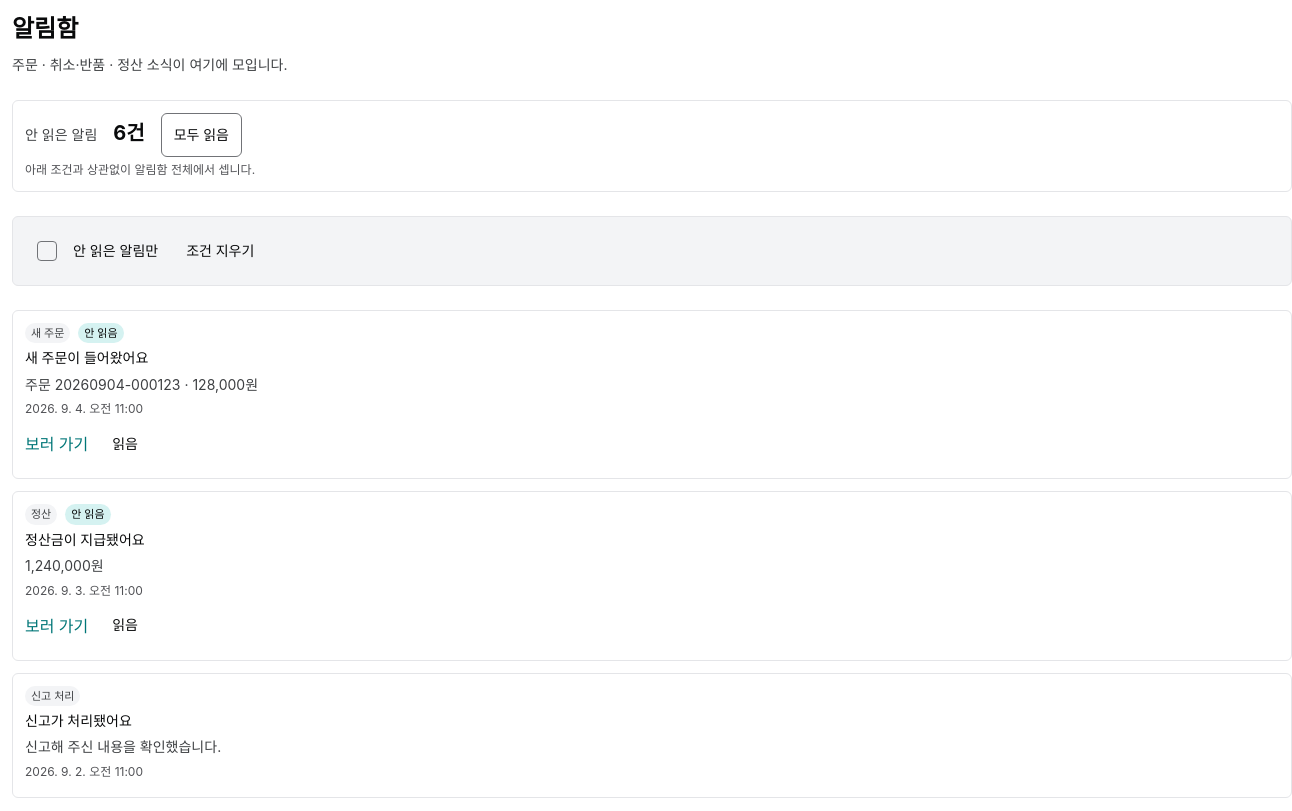
it: the notification inbox › 읽음 처리 (F4) › says so when the API refuses, and leaves the list standing
Click the button "모두 읽음". click: (201, 135)
box: [161, 113, 242, 157]
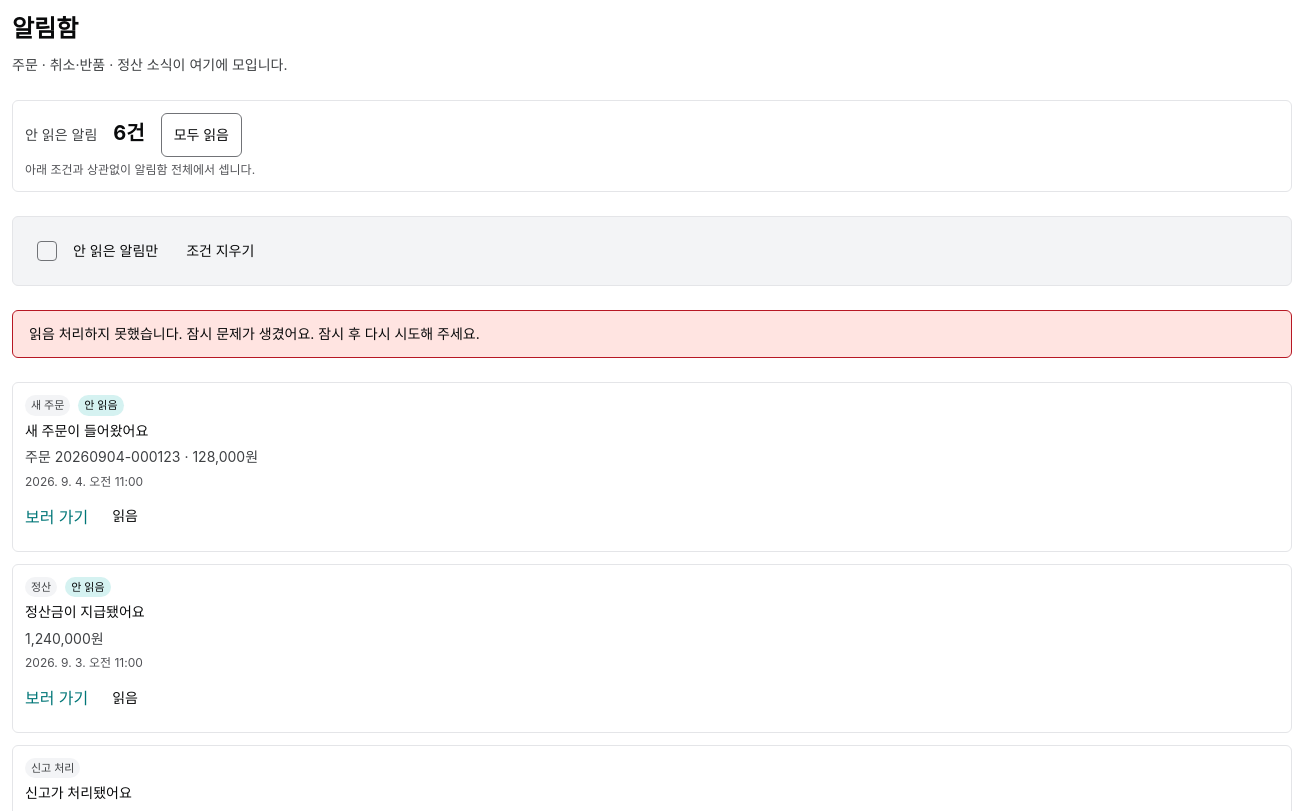
Expected: the text "새 주문이 들어왔어요" is shown, [25, 422, 148, 439]
Expected: the message shows "읽음 처리하지 못했습니다.", [29, 325, 480, 342]
